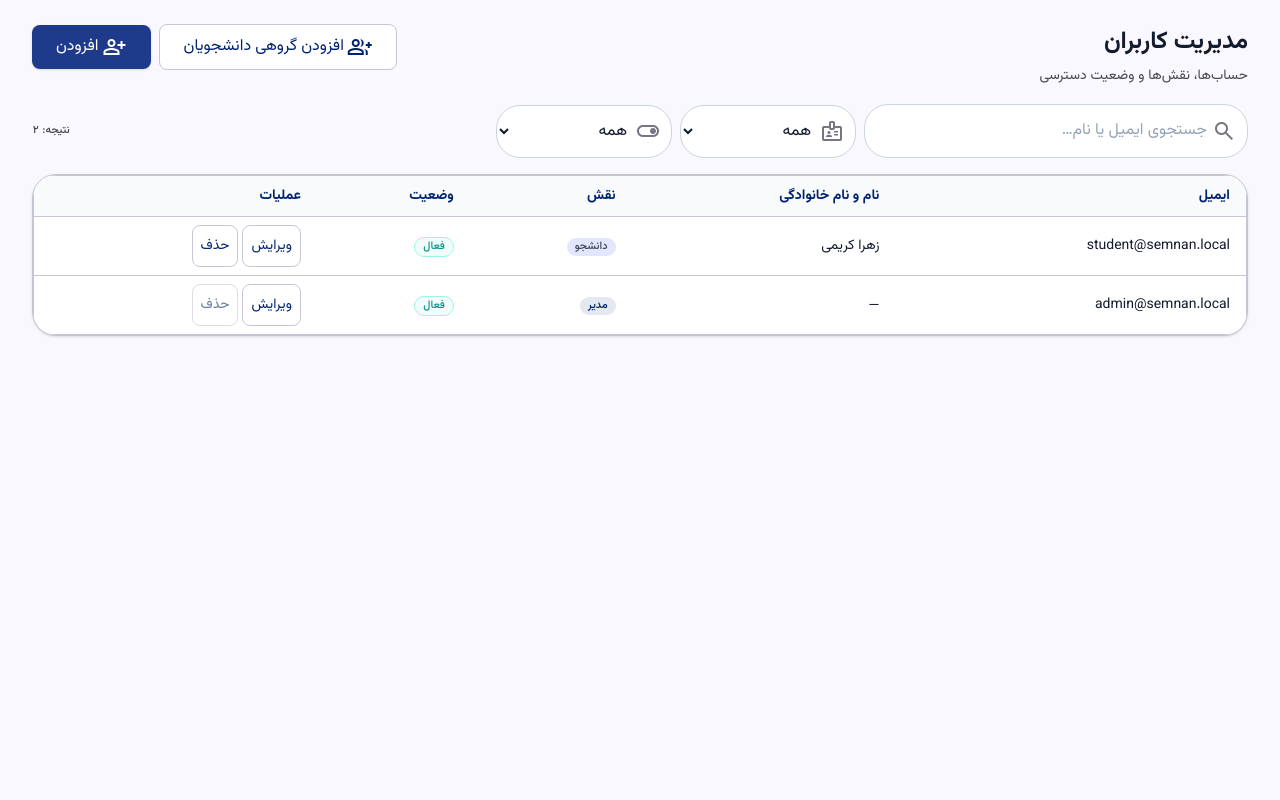
Scenario: admin users page › creates a user through POST with a validated payload
The width and height of the screenshot is (1280, 800).
Later steps or results of the test are not shown.
expect the text "student@semnan.local" is shown: met, box x1=896 y1=216 x2=1246 y2=276
Click the button "افزودن".
click(91, 47)  # box x1=32 y1=25 x2=151 y2=69
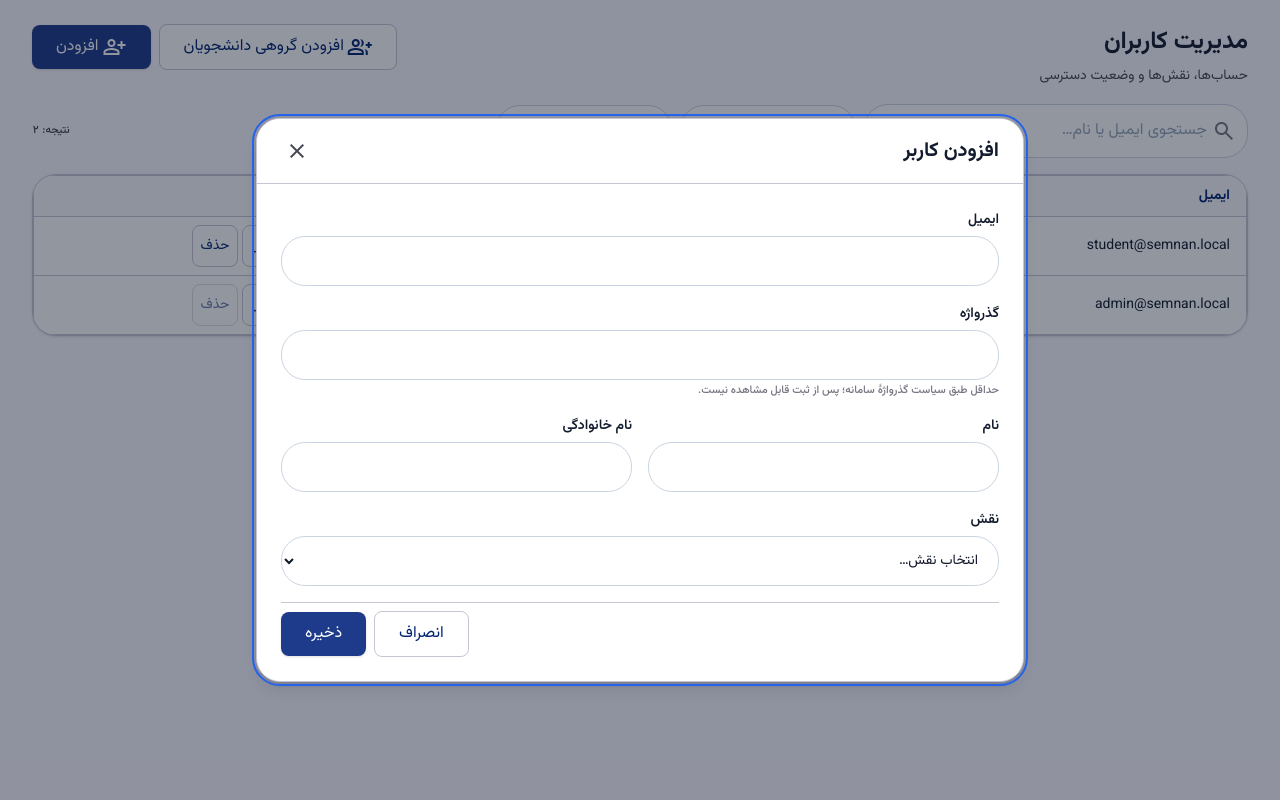
expect the heading "افزودن کاربر" is shown: met, box x1=903 y1=135 x2=999 y2=167
# Invalid email is rejected client-side with a Persian message.
Type "not-an-email" into the field labelled "ایمیل".
click(640, 261); type("not-an-email")  # box x1=281 y1=236 x2=999 y2=286
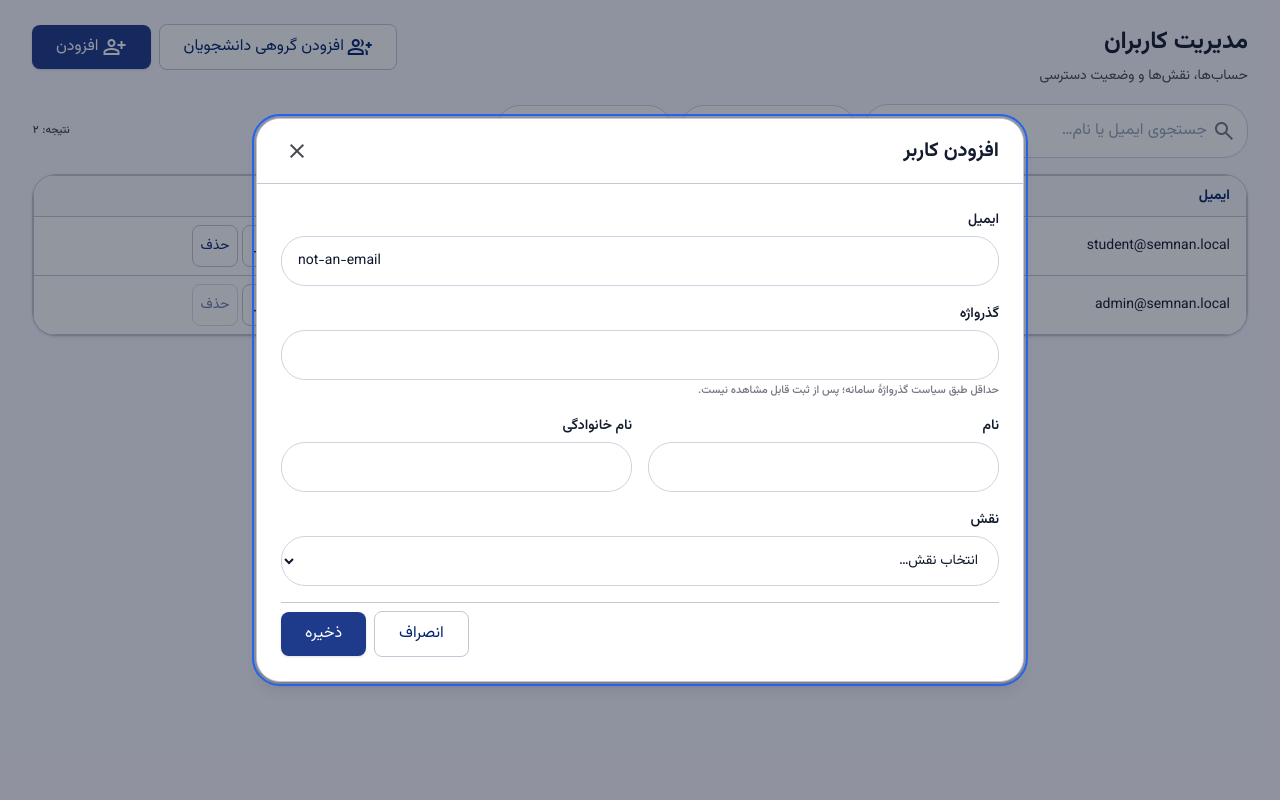
Type "Str0ng-Pass!" into the password field labelled "گذرواژه".
click(640, 355); type("Str0ng-Pass!")  # box x1=281 y1=330 x2=999 y2=380
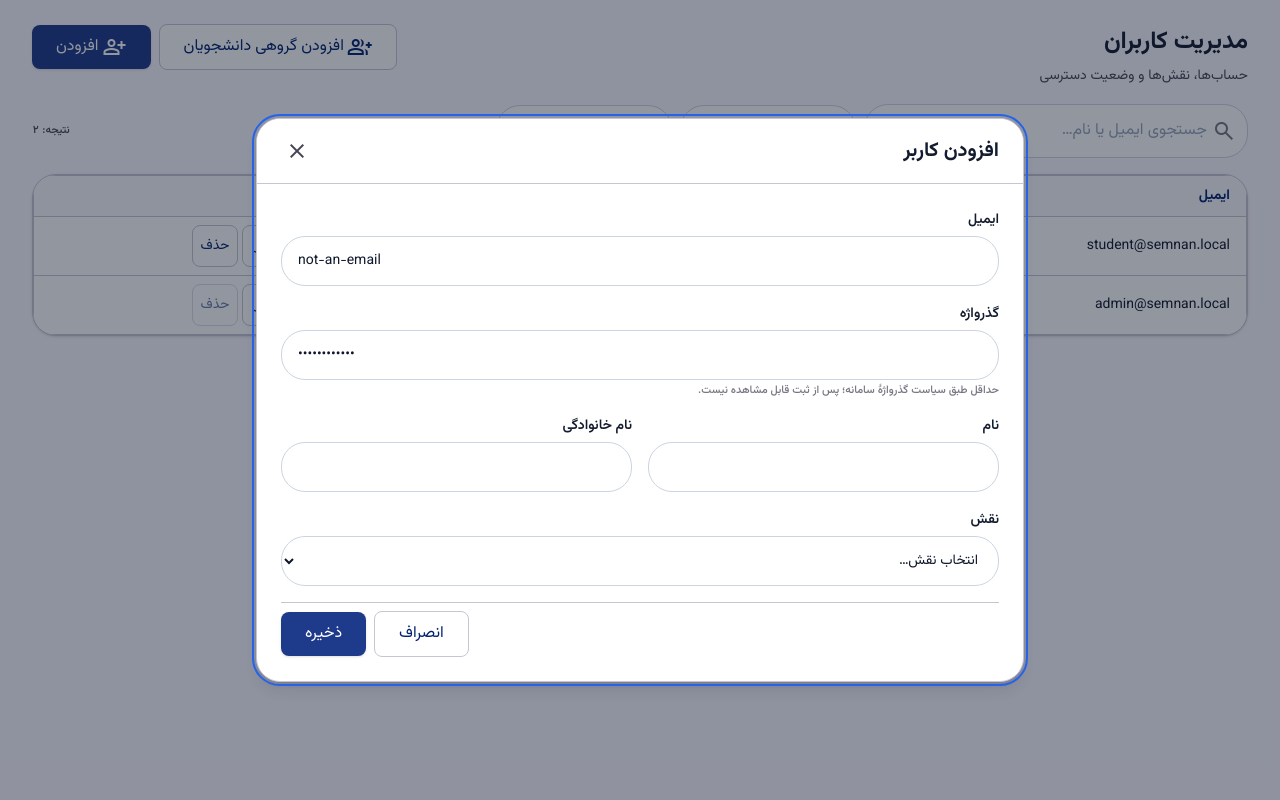
Submit the form named "ذخیره", box x1=281 y1=208 x2=999 y2=657
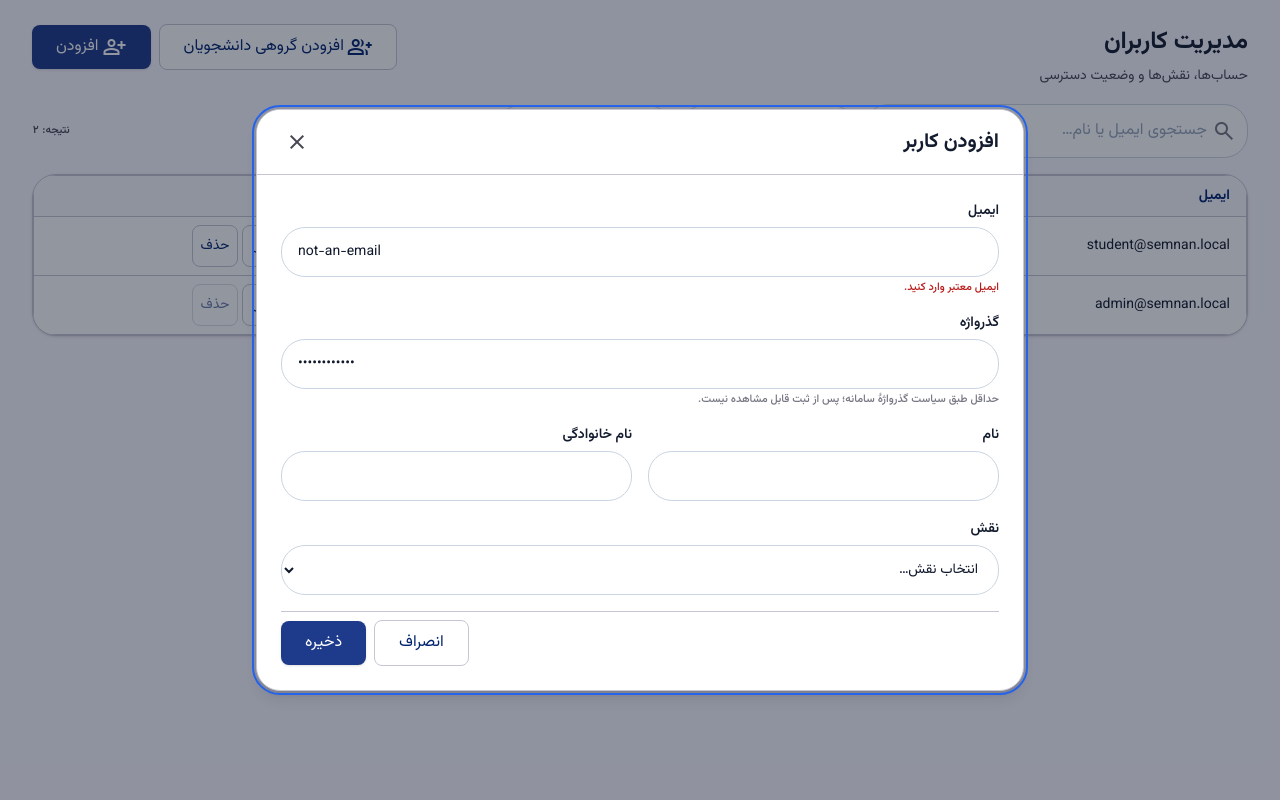
expect the text "ایمیل معتبر وارد کنید." is shown: met, box x1=904 y1=279 x2=999 y2=296
